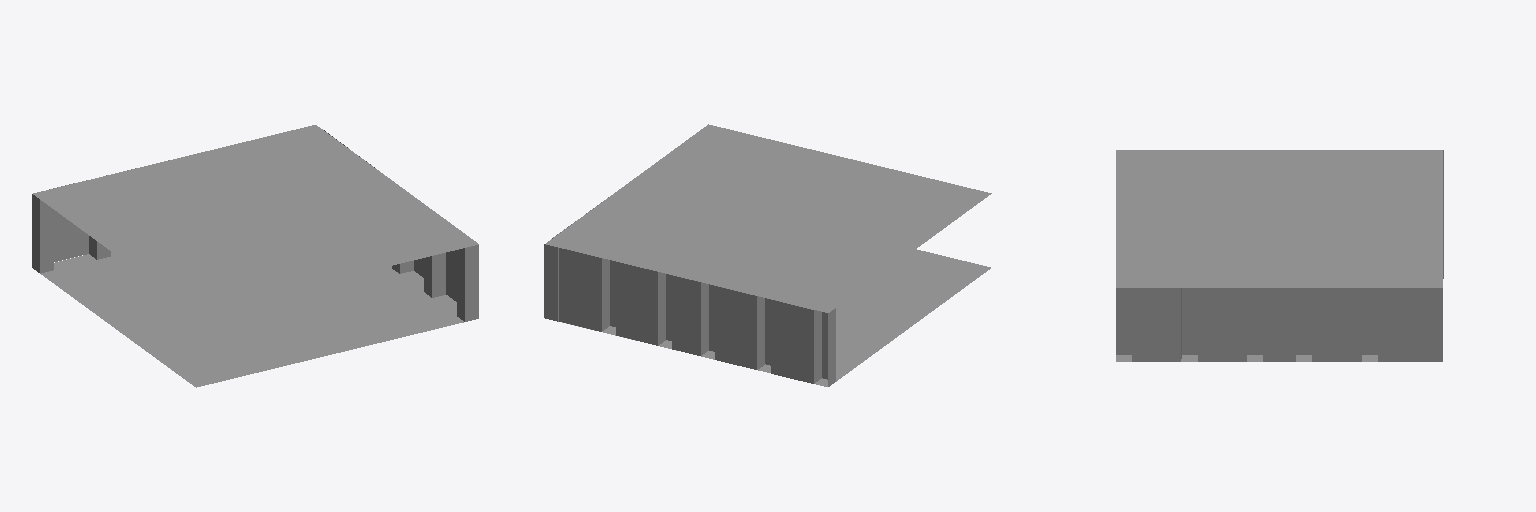
Rendered from modelname.obj.
3 renders of one model, left to right at view 1: azimuth 30°, elevation 25°; view 2: azimuth 150°, elevation 25°; view 3: azimuth 270°, elevation 25°, orthographic.
Visible parts, largest first — view 1: Tile; view 2: Tile; view 3: Tile.
Boxes of the visible parts, <box> form: Tile: <box>32,125,478,387</box>; Tile: <box>544,124,991,386</box>; Tile: <box>1116,150,1443,361</box>.
Bounding box in the file's own units: 2 × 0.5 × 2.